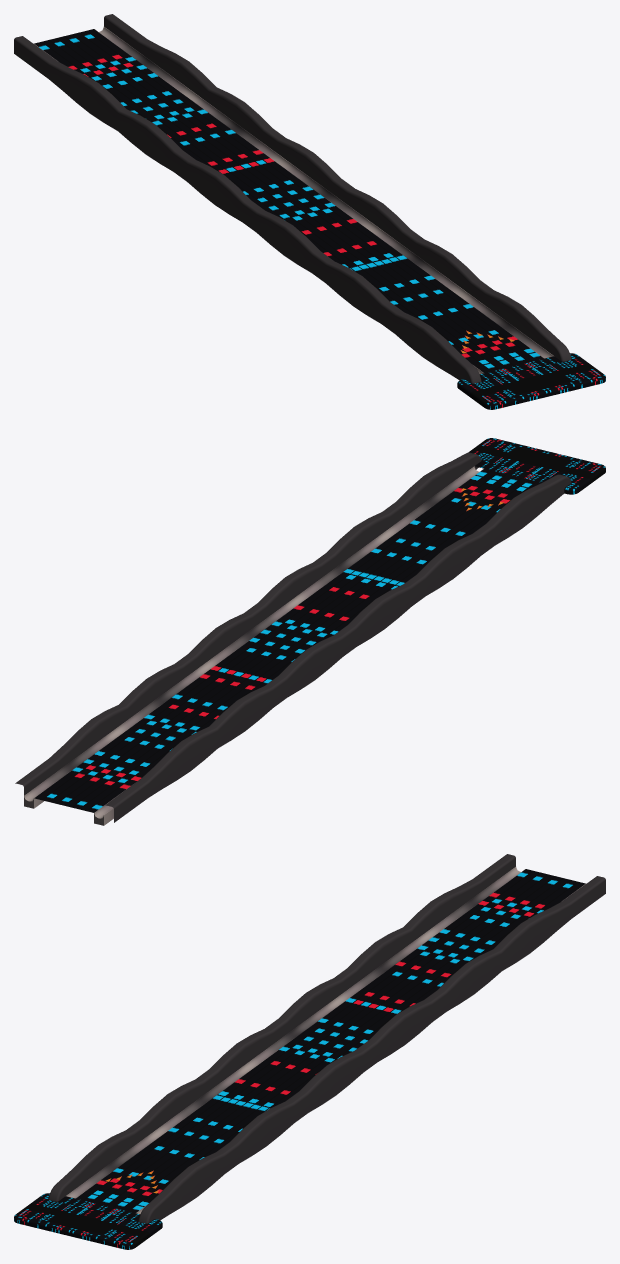
Rendered from lane_digitalGlitch.gltf.
3 views of the same model, one above another, from view 1: azimuth 30°, elevation 25°; view 2: azimuth 150°, elevation 25°; view 3: azimuth 330°, elevation 25° (orthographic).
Parts seen in each view (by area): view 1: lane_default.walls.004, lane_default.floor.004, lane_default.gutter.004, lane_default.playerArea.003; view 2: lane_default.walls.004, lane_default.floor.004, lane_default.gutter.004, lane_default.playerArea.003; view 3: lane_default.walls.004, lane_default.floor.004, lane_default.gutter.004, lane_default.playerArea.003.
Part boxes in pixels (x1,y1,x2,y2): lane_default.walls.004: (14,14,571,383); lane_default.floor.004: (34,29,543,372); lane_default.gutter.004: (34,27,553,374); lane_default.playerArea.003: (457,353,605,409); lane_default.walls.004: (15,452,571,822); lane_default.floor.004: (34,469,541,812); lane_default.gutter.004: (24,466,483,825); lane_default.playerArea.003: (468,438,605,494); lane_default.walls.004: (48,854,605,1223); lane_default.floor.004: (76,869,585,1212); lane_default.gutter.004: (66,867,585,1214); lane_default.playerArea.003: (14,1193,162,1249).
Size of the model in its own units: 3 by 0.7076 by 21.
Materials: 3 (3 with a texture image).
